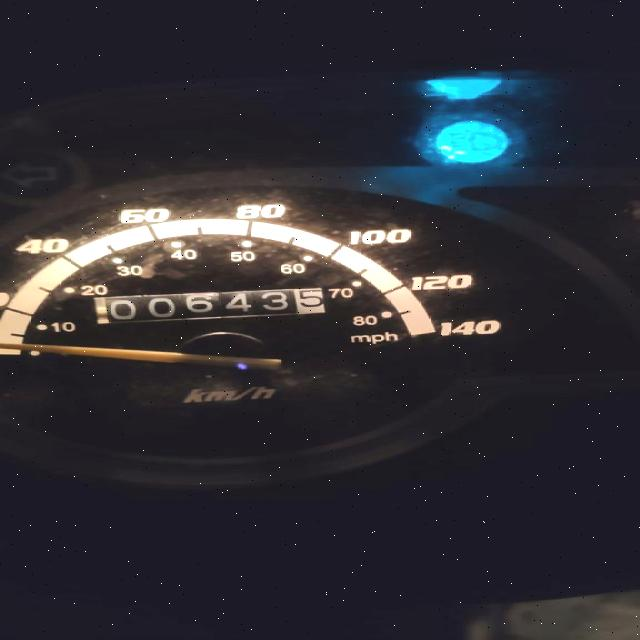odometer: (91, 286, 327, 324)
